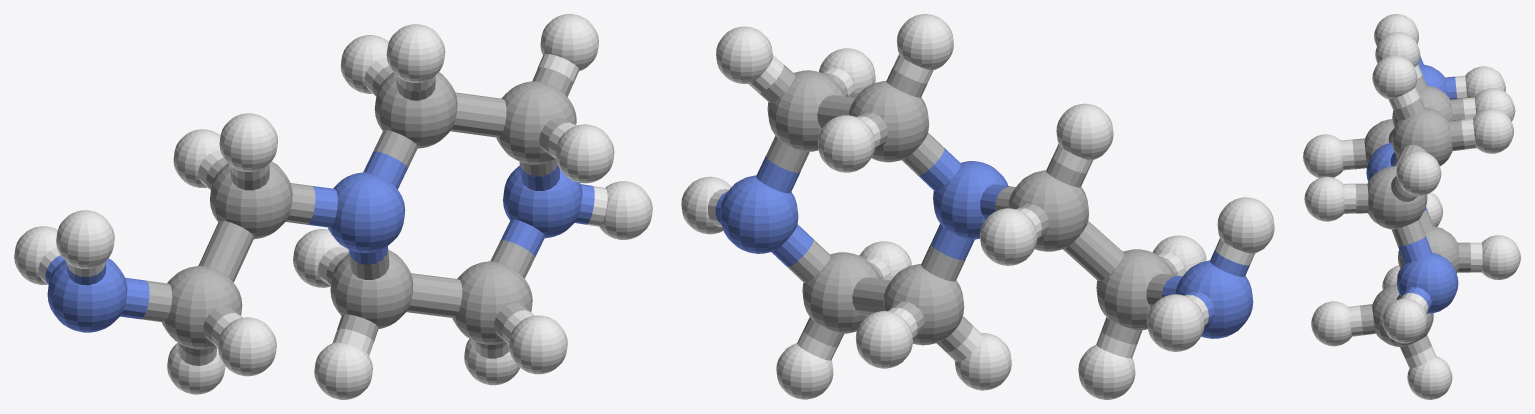
The model's file is N-aminoethylpiperazine.fbx.
3 renders of one model, left to right at view 1: azimuth 30°, elevation 25°; view 2: azimuth 150°, elevation 25°; view 3: azimuth 270°, elevation 25°, orthographic. The views are drawn at different scales.
Parts seen in each view (by area): view 1: ShapeSphere, ShapeSphere.005, ShapeSphere.008, ShapeSphere.006, ShapeSphere.003, ShapeSphere.007, ShapeSphere.004, ShapeSphere.002, ShapeSphere.001, ShapeSphere.013, ShapeSphere.021, ShapeSphere.011 (+29 smaller); view 2: ShapeSphere.001, ShapeSphere.003, ShapeSphere.005, ShapeSphere.004, ShapeSphere.007, ShapeSphere.008, ShapeSphere.006, ShapeSphere.002, ShapeSphere, ShapeSphere.022, ShapeSphere.018, ShapeSphere.009 (+37 smaller); view 3: ShapeSphere.001, ShapeSphere.004, ShapeSphere.006, ShapeSphere.019, ShapeSphere.015, ShapeSphere.011, ShapeSphere.016, ShapeSphere.012, ShapeSphere.013, ShapeSphere.009, ShapeSphere.021, ShapeSphere.014 (+35 smaller).
Boxes of the visible parts, x1,y1,x2,y2 form: ShapeSphere: (328, 172, 405, 252); ShapeSphere.005: (452, 261, 532, 344); ShapeSphere.008: (162, 266, 242, 349); ShapeSphere.006: (496, 81, 576, 164); ShapeSphere.003: (330, 250, 413, 328); ShapeSphere.007: (210, 161, 292, 239); ShapeSphere.004: (374, 72, 457, 148); ShapeSphere.002: (47, 258, 127, 332); ShapeSphere.001: (503, 165, 582, 238); ShapeSphere.013: (509, 315, 567, 374); ShapeSphere.021: (218, 317, 276, 376); ShapeSphere.011: (386, 24, 445, 82); ShapeSphere.001: (720, 175, 798, 253); ShapeSphere.003: (883, 264, 964, 345); ShapeSphere.005: (802, 252, 880, 333); ShapeSphere.004: (848, 81, 929, 162); ShapeSphere.007: (1008, 170, 1088, 251); ShapeSphere.008: (1096, 249, 1174, 330); ShapeSphere.006: (767, 70, 845, 151); ShapeSphere.002: (1175, 260, 1253, 338); ShapeSphere: (933, 161, 1008, 239); ShapeSphere.022: (1147, 294, 1204, 351); ShapeSphere.018: (980, 208, 1036, 265); ShapeSphere.009: (855, 311, 912, 368); ShapeSphere.001: (1397, 253, 1458, 313); ShapeSphere.004: (1391, 108, 1452, 165); ShapeSphere.006: (1367, 166, 1427, 229); ShapeSphere.019: (1382, 298, 1427, 343); ShapeSphere.015: (1396, 151, 1441, 195); ShapeSphere.011: (1372, 55, 1417, 99); ShapeSphere.016: (1304, 176, 1344, 221); ShapeSphere.012: (1473, 109, 1513, 153); ShapeSphere.013: (1311, 301, 1351, 346); ShapeSphere.009: (1482, 235, 1520, 280); ShapeSphere.021: (1303, 134, 1343, 177); ShapeSphere.014: (1407, 356, 1452, 399).
Size of the model in its own units: 837 by 534 by 348.
